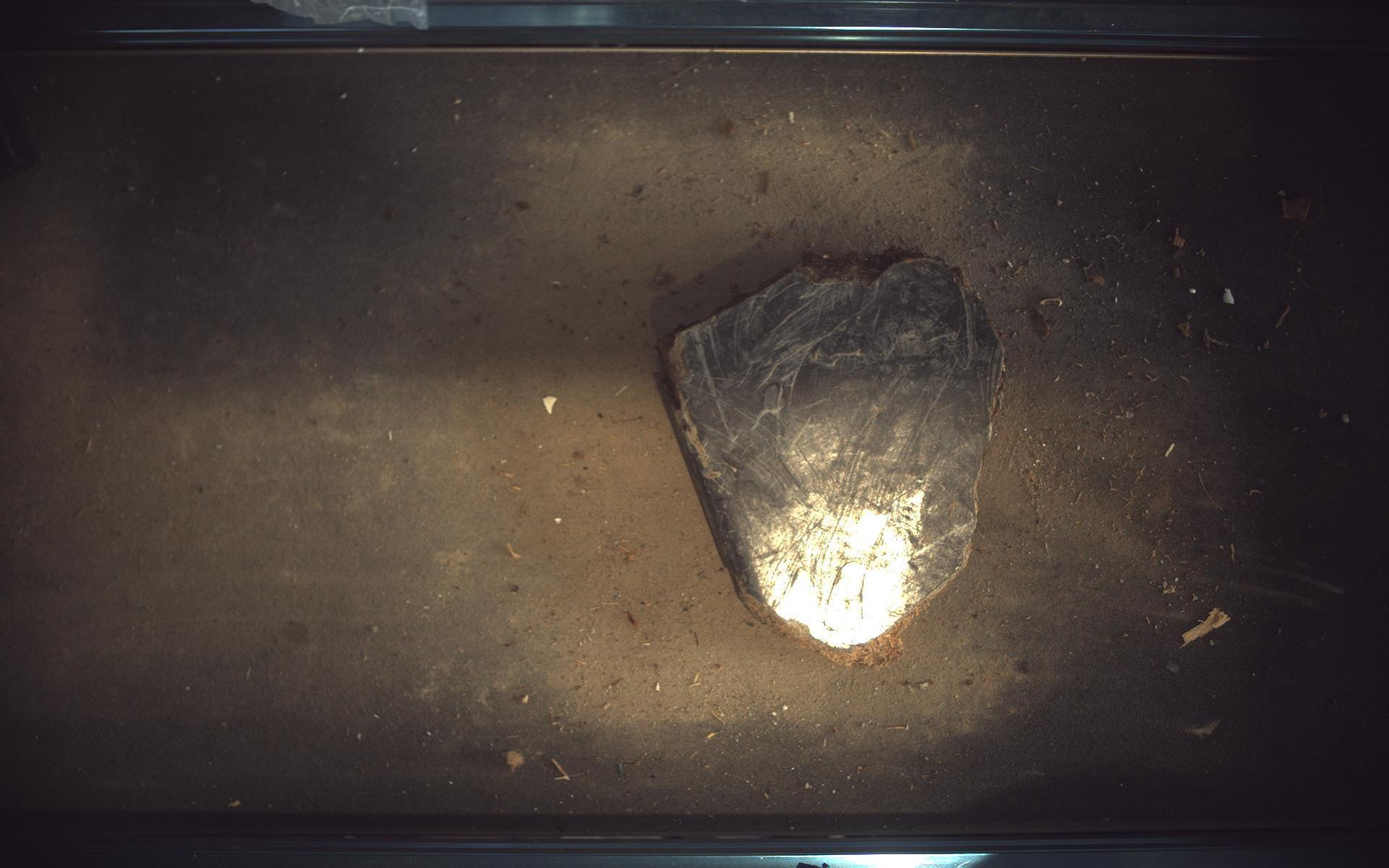wood: (663, 252, 1006, 666)
